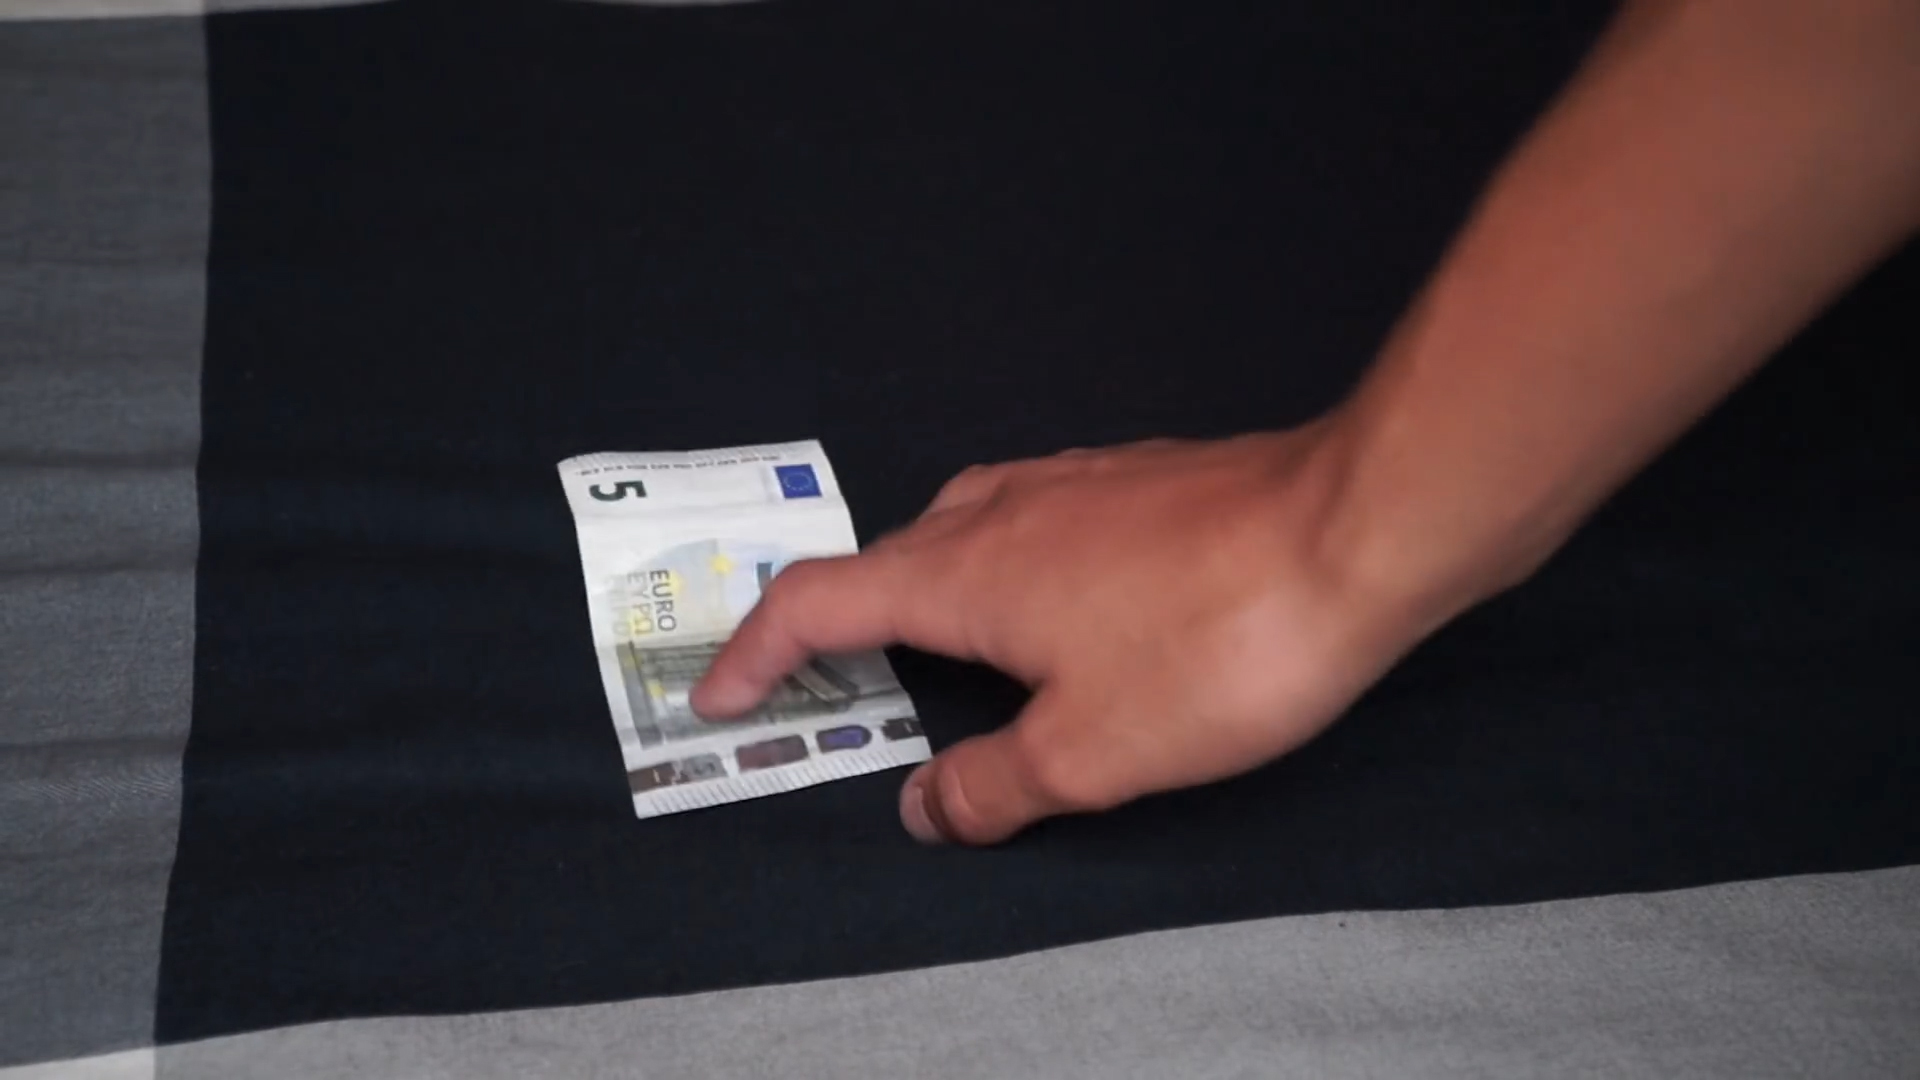billete: (551, 430, 938, 823)
